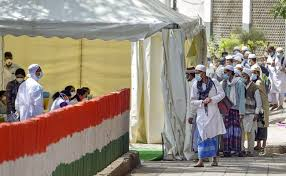mask: (29, 63, 45, 83), (182, 65, 194, 82), (221, 66, 235, 80), (195, 64, 205, 81), (3, 52, 15, 66), (14, 69, 24, 82), (64, 84, 74, 96), (245, 55, 254, 67), (265, 46, 274, 57), (276, 47, 284, 57)
